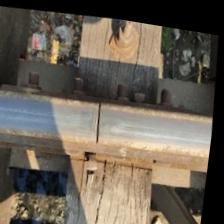person: (67, 86, 134, 150)
